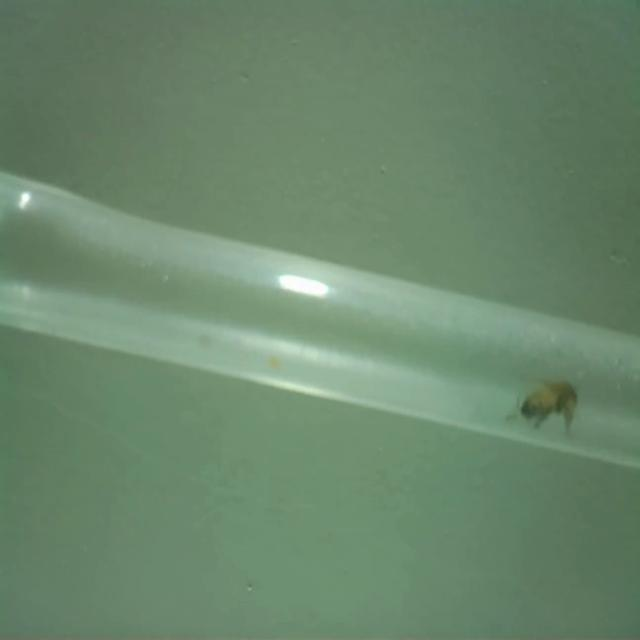Honeybee-Detection: (506, 376, 583, 438)
